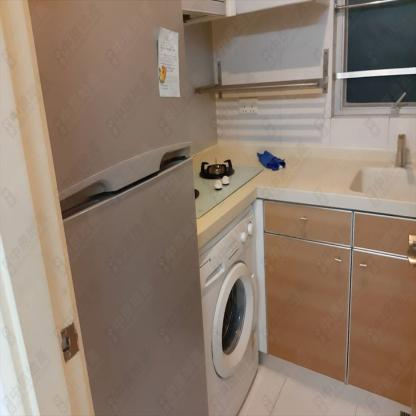Cupboard: (264, 200, 415, 409)
Faucet: (392, 128, 409, 171)
Fridge: (28, 0, 207, 415)
Sink: (346, 166, 415, 201)
Stove: (192, 156, 263, 219)
Washing Machine: (200, 199, 260, 415)
